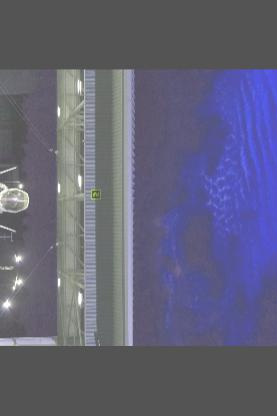F22: (0, 116, 30, 286)
